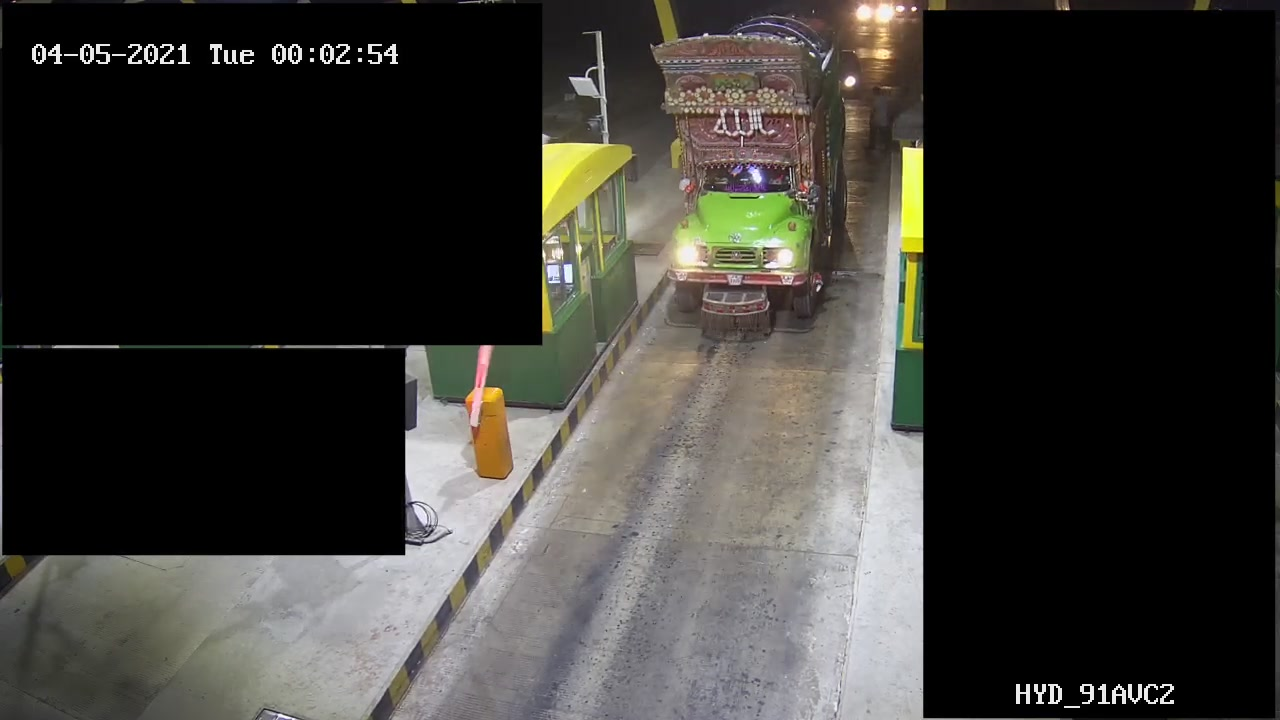F5: (666, 12, 838, 364)
